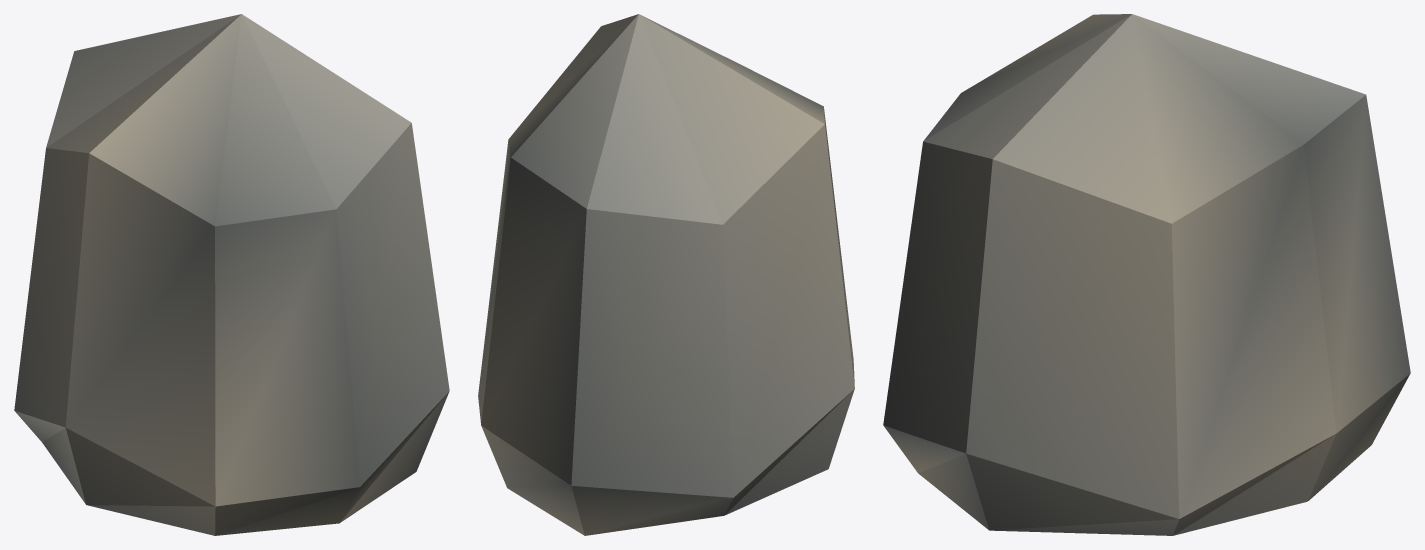
Rendered from ENV_Rock_B_LOD0.glb.
3 renders of one model, left to right at view 1: azimuth 30°, elevation 25°; view 2: azimuth 150°, elevation 25°; view 3: azimuth 270°, elevation 25°, orthographic. The views are drawn at different scales.
Visible parts, largest first — view 1: ENV_Rock_B_LOD0_rock; view 2: ENV_Rock_B_LOD0_rock; view 3: ENV_Rock_B_LOD0_rock.
Part boxes in pixels (x1=…): ENV_Rock_B_LOD0_rock: x1=14, y1=14, x2=449, y2=535; ENV_Rock_B_LOD0_rock: x1=478, y1=14, x2=854, y2=535; ENV_Rock_B_LOD0_rock: x1=883, y1=14, x2=1410, y2=535.
Size of the model in its own units: 0.8175 by 1 by 1.04.
